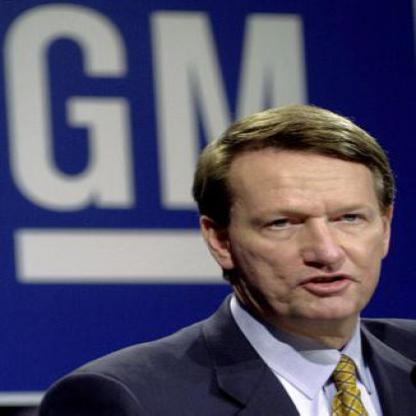face: (224, 115, 394, 326)
